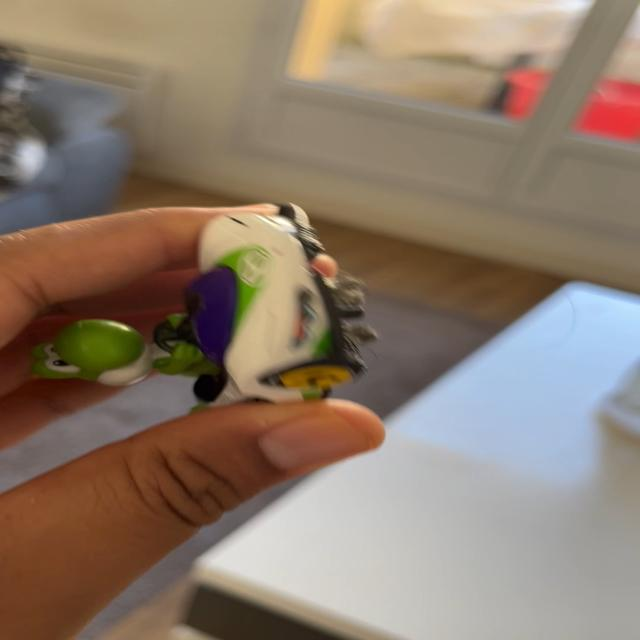yoshi: (9, 182, 404, 434)
